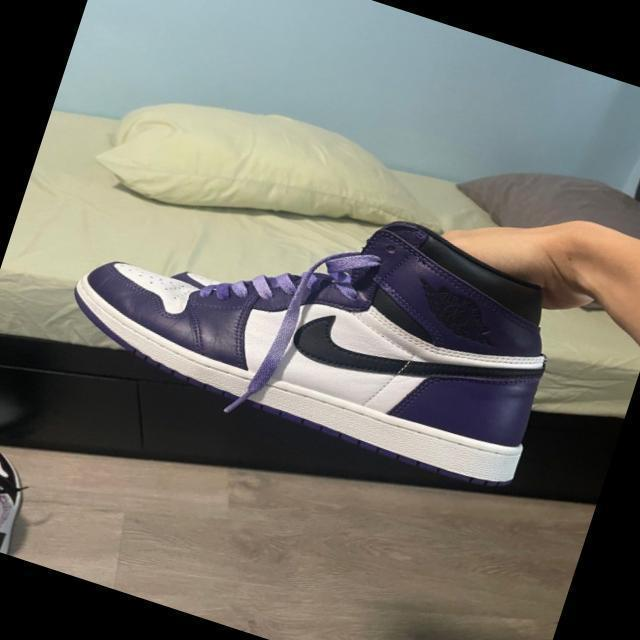nike original jordan 1: (54, 130, 588, 502)
